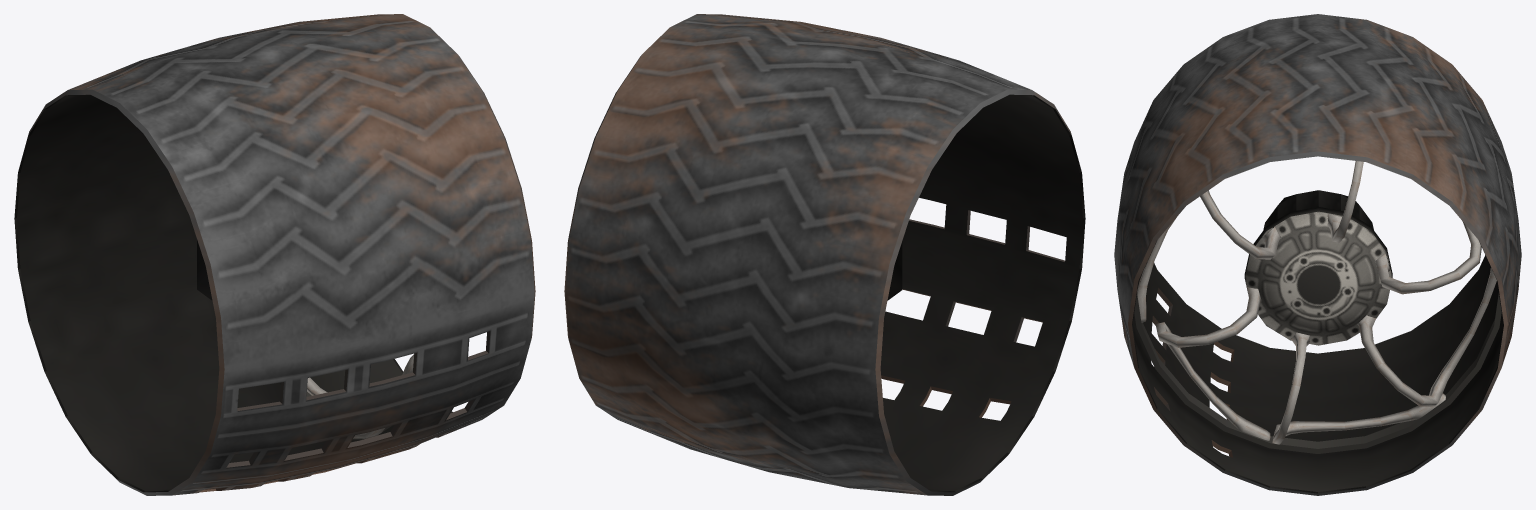
File: wheel.dae
3 views of the same model, side by side, from view 1: azimuth 30°, elevation 25°; view 2: azimuth 150°, elevation 25°; view 3: azimuth 270°, elevation 25° (orthographic). The views are drawn at different scales.
Parts seen in each view (by area): view 1: wheel_01_L; view 2: wheel_01_L; view 3: wheel_01_L.
Part boxes in pixels (x1,y1,x2,y2): wheel_01_L: [14, 14, 535, 495]; wheel_01_L: [564, 14, 1085, 495]; wheel_01_L: [1114, 14, 1521, 495].
Bounding box in the file's own units: 0.3947 × 0.4853 × 0.4853.
1 material, 1 textured.
